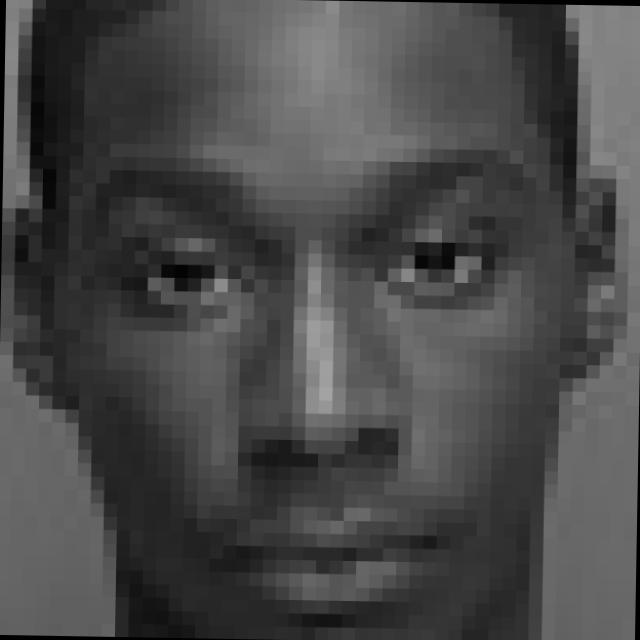neutral: (70, 146, 541, 640)
